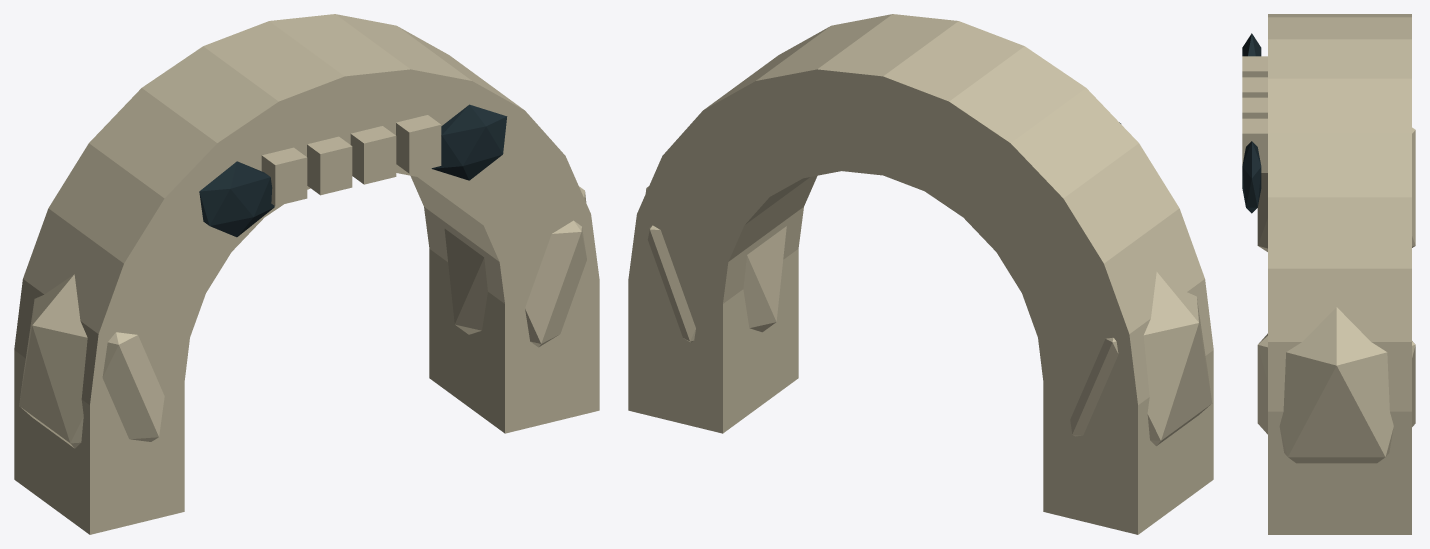
File: PirateCove_SkullArch_Simple.glb
3 views of the same model, side by side, from view 1: azimuth 30°, elevation 25°; view 2: azimuth 150°, elevation 25°; view 3: azimuth 270°, elevation 25° (orthographic). The views are drawn at different scales.
Visible parts, largest first — view 1: PirateCove_SkullArch_Simple; view 2: PirateCove_SkullArch_Simple; view 3: PirateCove_SkullArch_Simple.
Boxes of the visible parts, x1=… form: PirateCove_SkullArch_Simple: x1=14, y1=14, x2=599, y2=534; PirateCove_SkullArch_Simple: x1=628, y1=14, x2=1213, y2=534; PirateCove_SkullArch_Simple: x1=1242, y1=14, x2=1415, y2=534.
Size of the model in its own units: 3.79 by 2.6 by 1.08.
